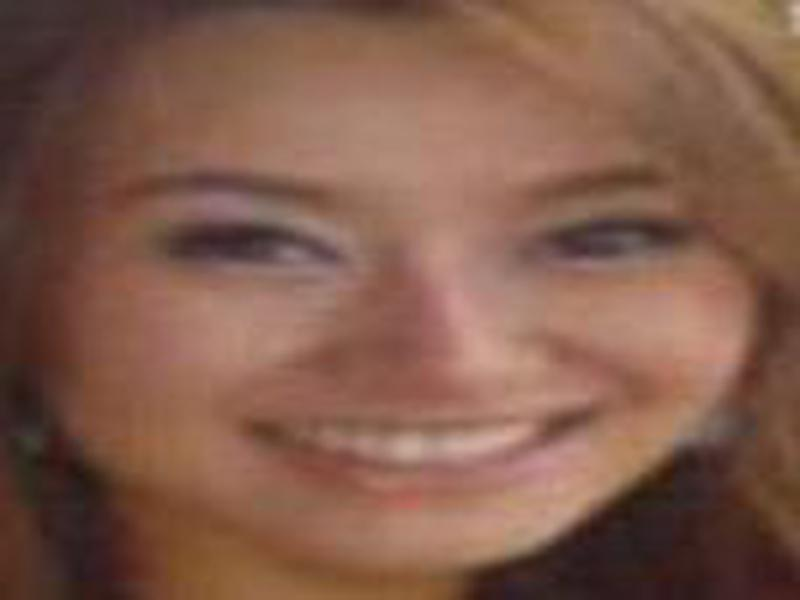without_mask: (33, 82, 759, 570)
